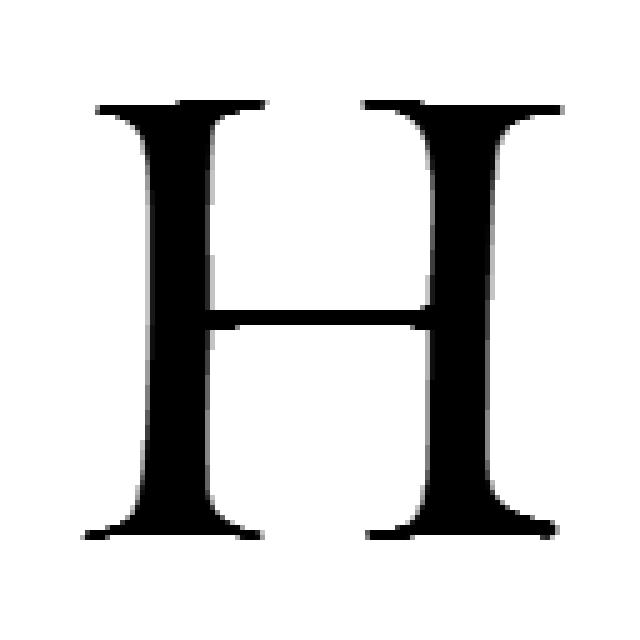H: (85, 100, 560, 540)
